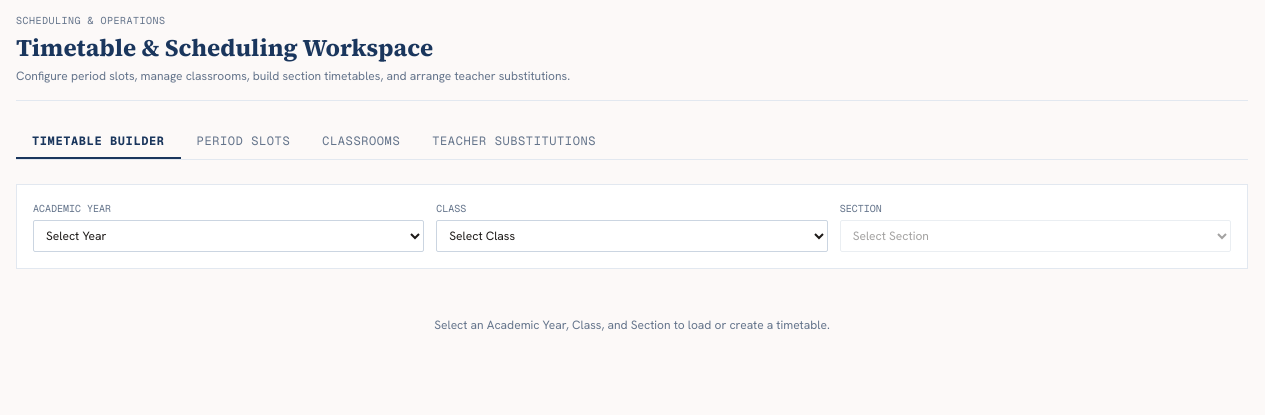
Test case: TimetablePage Component › renders period slots table
Click the button "Period Slots": {"x": 243, "y": 142} [181,125,306,159]
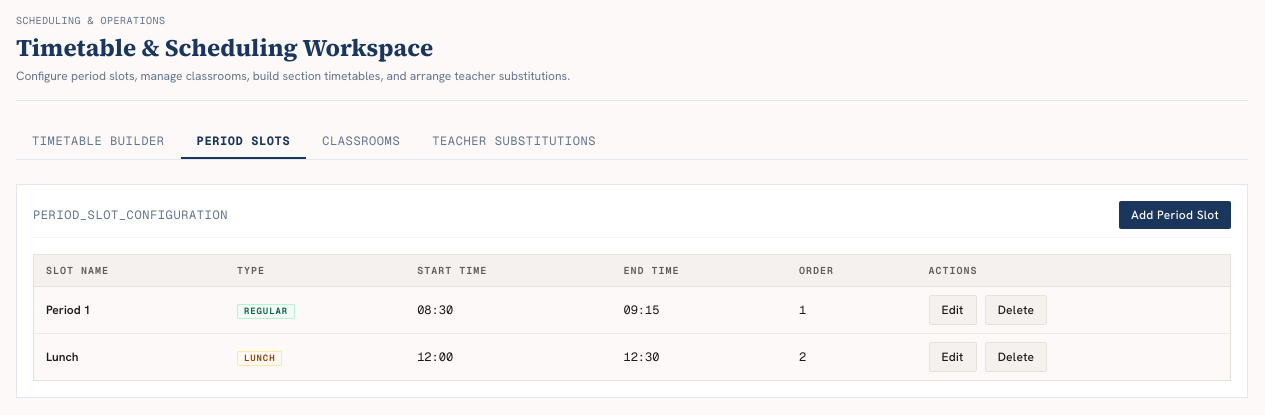
Expected: the text "Period 1" is shown, [34,286,225,334]
Expected: the text "Lunch" is shown, [34,334,225,380]
